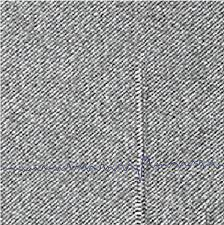Hole: (104, 30, 178, 225)
